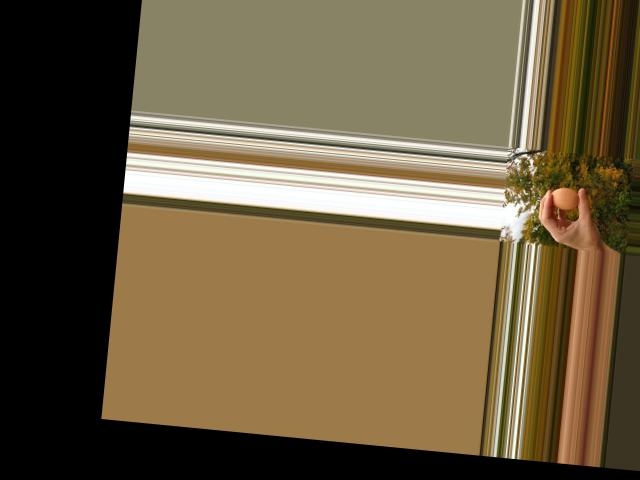egg: (549, 186, 580, 210)
